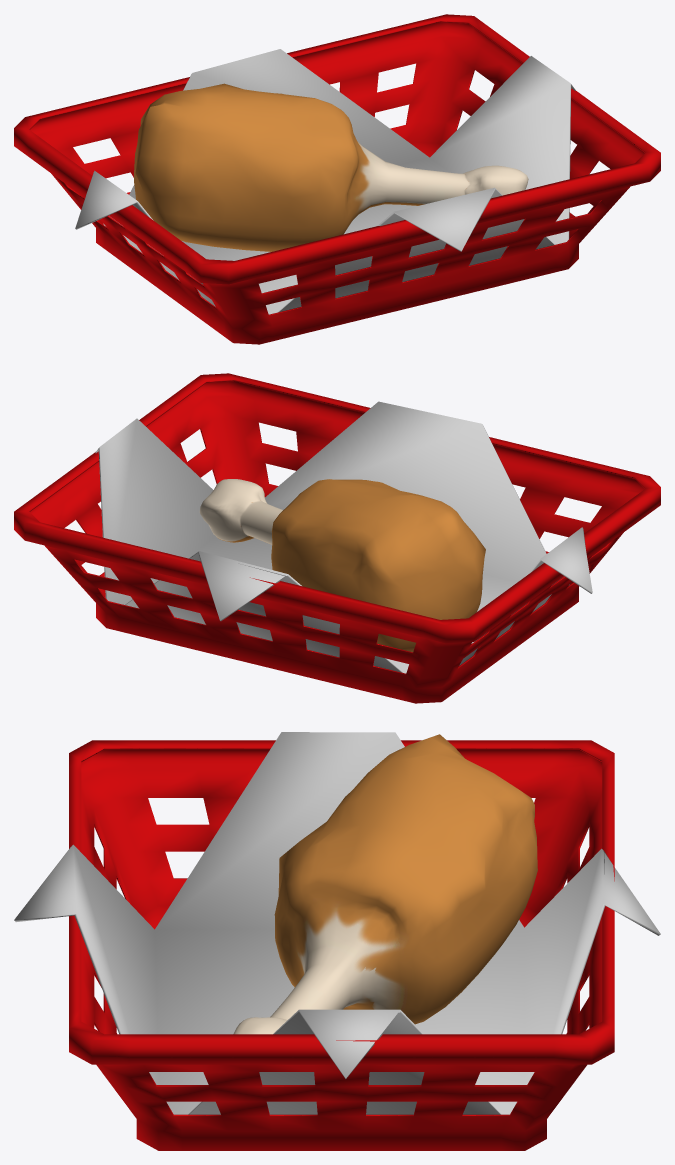
File: FriedChicken.fbx
3 views of the same model, one above another, from view 1: azimuth 30°, elevation 25°; view 2: azimuth 150°, elevation 25°; view 3: azimuth 270°, elevation 25° (orthographic). The views are drawn at different scales.
Parts seen in each view (by area): view 1: BurgerTray.001, FriedChicken, BurgerTrayPaper.001; view 2: BurgerTray.001, BurgerTrayPaper.001, FriedChicken; view 3: BurgerTray.001, BurgerTrayPaper.001, FriedChicken.
Boxes of the visible parts, bbox=[...] form: BurgerTray.001: bbox=[14, 14, 660, 344]; FriedChicken: bbox=[134, 83, 528, 251]; BurgerTrayPaper.001: bbox=[75, 49, 575, 314]; BurgerTray.001: bbox=[14, 373, 660, 703]; BurgerTrayPaper.001: bbox=[95, 401, 592, 673]; FriedChicken: bbox=[199, 479, 485, 652]; BurgerTray.001: bbox=[69, 740, 614, 1150]; BurgerTrayPaper.001: bbox=[14, 732, 660, 1114]; FriedChicken: bbox=[233, 734, 537, 1034].
Size of the model in its own units: 89.14 by 26.9 by 73.87.
Materials: 3 (3 with a texture image).
